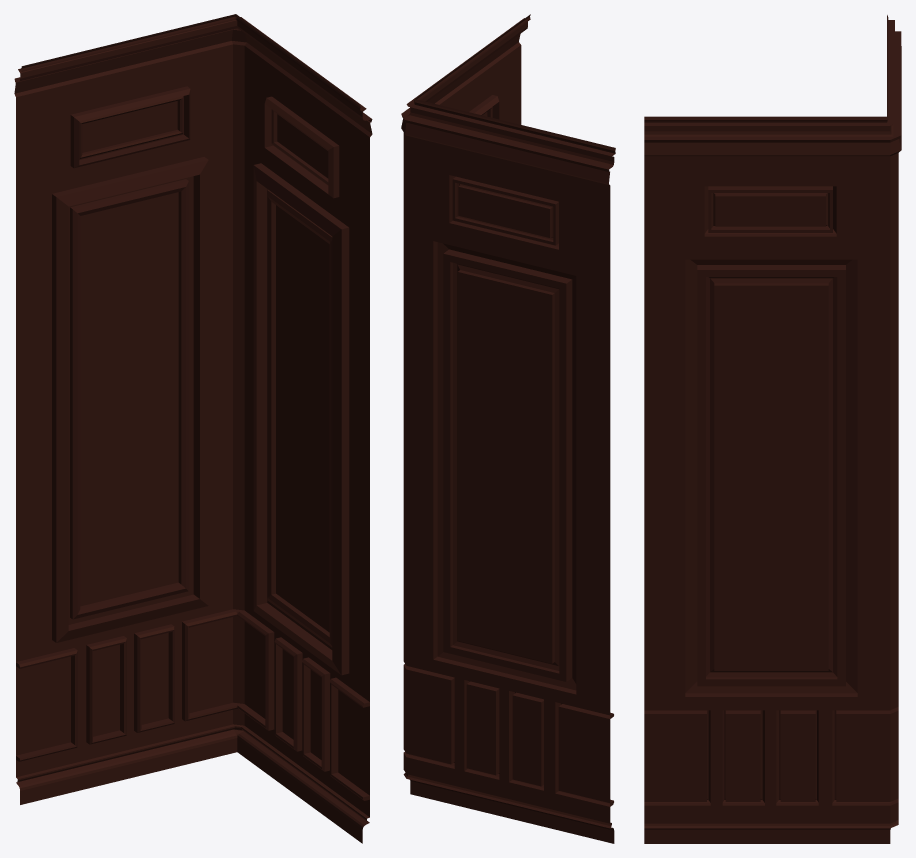
Rendered from corner_small.fbx.
3 renders of one model, left to right at view 1: azimuth 30°, elevation 25°; view 2: azimuth 150°, elevation 25°; view 3: azimuth 270°, elevation 25°, orthographic. The views are drawn at different scales.
Visible parts, largest first — view 1: small_corner; view 2: small_corner; view 3: small_corner.
Part boxes in pixels (x1=…): small_corner: x1=14, y1=14, x2=372, y2=843; small_corner: x1=401, y1=14, x2=615, y2=843; small_corner: x1=644, y1=15, x2=901, y2=843.
Bounding box in the file's own units: 101 × 315 × 101.
